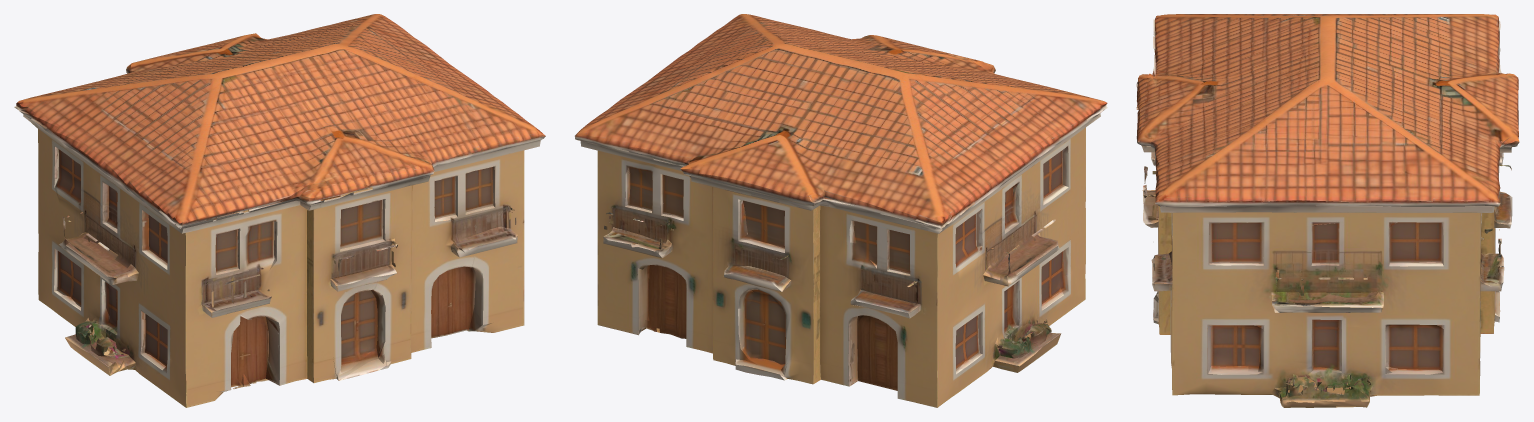
Rendered from house__mediterranean-villa_roman.glb.
3 renders of one model, left to right at view 1: azimuth 30°, elevation 25°; view 2: azimuth 150°, elevation 25°; view 3: azimuth 270°, elevation 25°, orthographic. The views are drawn at different scales.
Bounding box in the file's own units: 2 × 1.23 × 1.61.
Materials: 1 (1 with a texture image).
